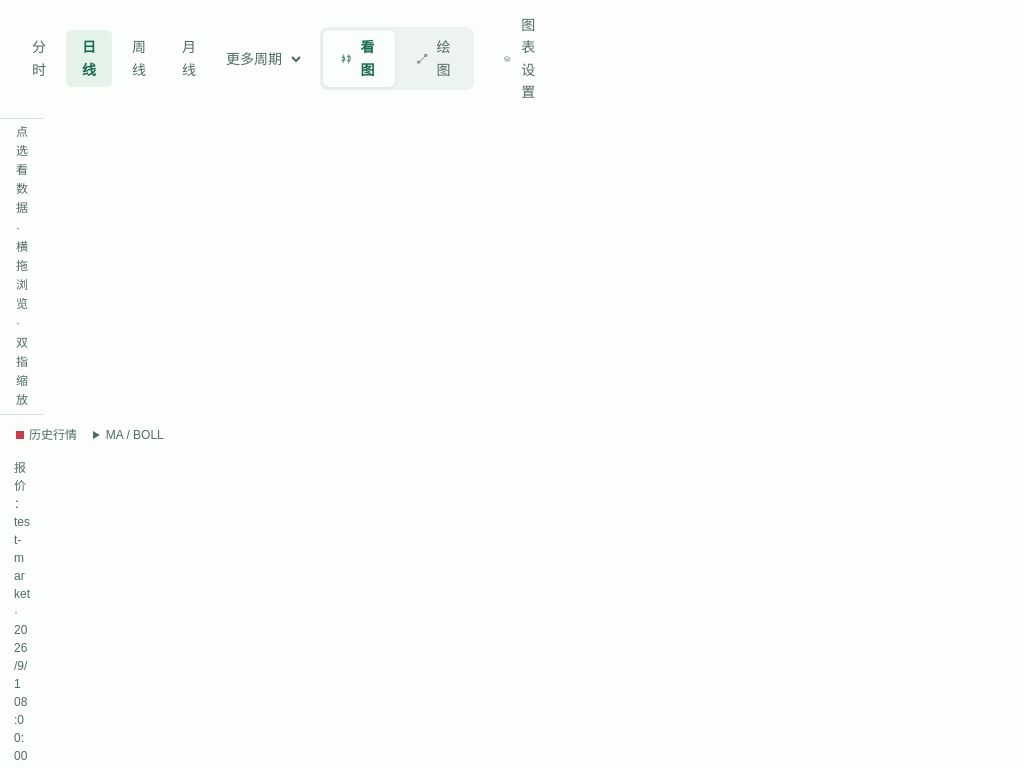
ChartWorkspace › A50 futures disable stock-session forecasts and unsupported five-day controls
This screenshot has width=1024, height=768.
Expected: the tab "分时" is enabled, [16,30,62,87]
Click the button "图表设置".
click(522, 59)  # box [486,8,558,110]
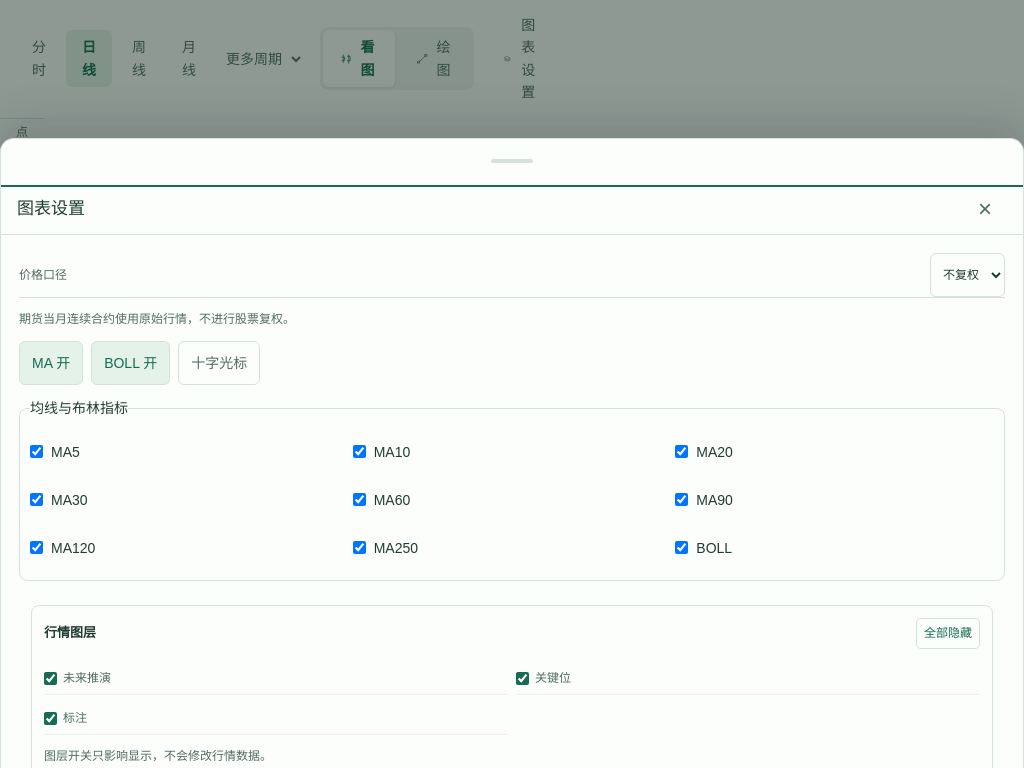
Expected: the dropdown named "价格复权方式" is disabled, [930,253,1005,297]
Expected: the text "期货当月连续合约使用原始行情，不进行股票复权。" is shown, [19,312,295,326]
